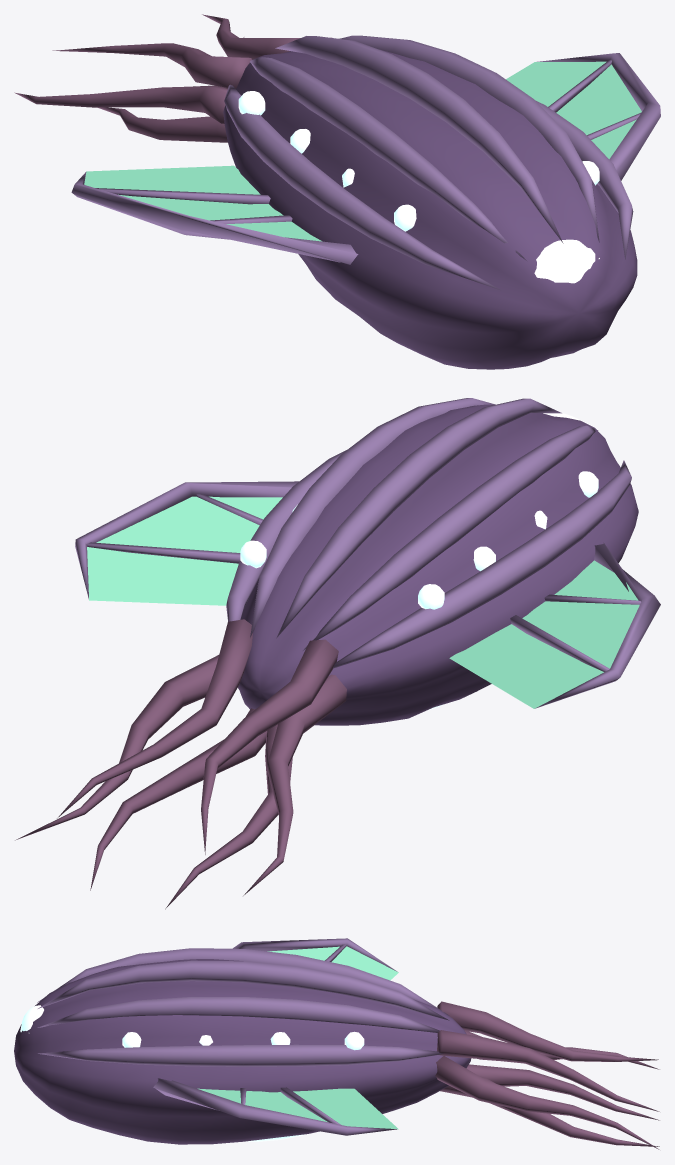
Rendered from spore_ship.glb.
3 views of the same model, one above another, from view 1: azimuth 30°, elevation 25°; view 2: azimuth 150°, elevation 25°; view 3: azimuth 270°, elevation 25° (orthographic). The views are drawn at different scales.
Visible parts, largest first — view 1: hull, wings, glow; view 2: hull, wings, glow; view 3: hull, wings, glow.
Boxes of the visible parts, x1=… form: hull: x1=14, y1=14, x2=660, y2=369; wings: x1=84, y1=61, x2=641, y2=241; glow: x1=238, y1=91, x2=599, y2=283; hull: x1=15, y1=398, x2=660, y2=909; wings: x1=87, y1=496, x2=639, y2=708; glow: x1=240, y1=413, x2=598, y2=710; hull: x1=14, y1=938, x2=659, y2=1149; wings: x1=197, y1=946, x2=398, y2=1129; glow: x1=20, y1=1005, x2=364, y2=1141.
Size of what is drawn, in the model's own units: 1.23 by 0.5094 by 1.75.
